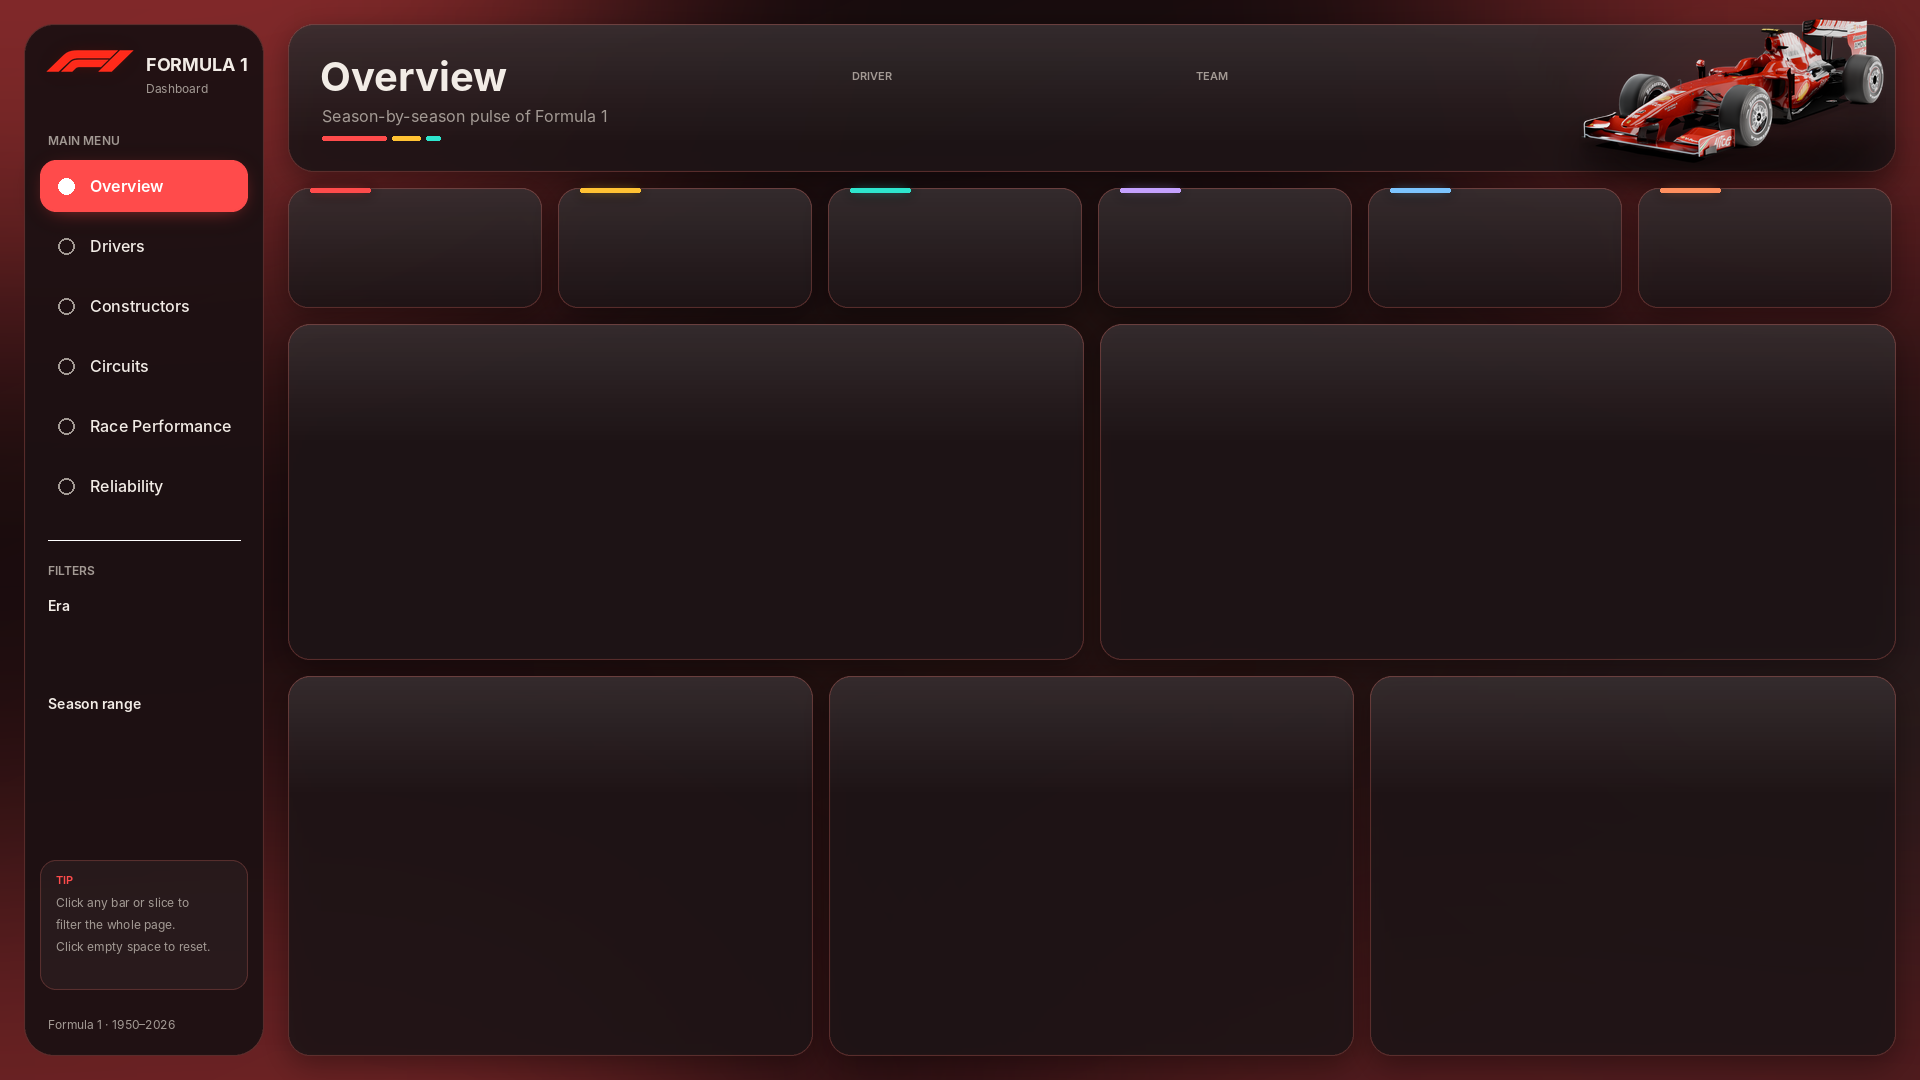

Layout of this report page (visuals, bound fields, positions):
{"tool":"powerbi","page":{"name":"Overview","canvas":[1920,1080],"ordinal":0},"visuals":[{"type":"actionButton","box":[40,160,208,52],"z":1000},{"type":"actionButton","box":[40,220,208,52],"z":2000},{"type":"actionButton","box":[40,280,208,52],"z":3000},{"type":"actionButton","box":[40,340,208,52],"z":4000},{"type":"actionButton","box":[40,400,208,52],"z":5000},{"type":"actionButton","box":[40,460,208,52],"z":6000},{"type":"slicer","fields":{"Values":["dim_race.era"]},"box":[40,622,208,44],"z":7000},{"type":"slicer","fields":{"Values":["dim_race.year"]},"box":[40,724,208,96],"z":8000},{"type":"slicer","fields":{"Values":["dim_driver.driver_name"]},"box":[848,90,328,40],"z":9000},{"type":"slicer","fields":{"Values":["dim_constructor.constructor_name"]},"box":[1192,90,328,40],"z":10000},{"type":"card","fields":{"Values":["_Measures.Races"]},"box":[300,202,230,96],"z":11000},{"type":"card","fields":{"Values":["_Measures.Starts"]},"box":[570,202,230,96],"z":12000},{"type":"card","fields":{"Values":["_Measures.Finish Rate"]},"box":[840,202,230,96],"z":13000},{"type":"card","fields":{"Values":["_Measures.Retirement Rate"]},"box":[1110,202,230,96],"z":14000},{"type":"card","fields":{"Values":["_Measures.Fastest Laps"]},"box":[1380,202,230,96],"z":15000},{"type":"card","fields":{"Values":["_Measures.Avg Pit Stop (s)"]},"box":[1650,202,230,96],"z":16000},{"type":"areaChart","title":"Finish rate vs retirement rate by season","fields":{"Category":["dim_race.year"],"Y":["_Measures.Finish Rate","_Measures.Retirement Rate"]},"box":[300,336,772,312],"z":17000},{"type":"clusteredColumnChart","title":"Races per season","fields":{"Category":["dim_race.year"],"Y":["_Measures.Races"]},"box":[1112,336,772,312],"z":18000},{"type":"clusteredBarChart","title":"Top 10 drivers by wins","fields":{"Category":["dim_driver.driver_name"],"Y":["_Measures.Wins"]},"box":[300,688,501,356],"z":19000},{"type":"clusteredBarChart","title":"Top 10 constructors by wins","fields":{"Category":["dim_constructor.constructor_name"],"Y":["_Measures.Wins"]},"box":[841,688,501,356],"z":20000},{"type":"donutChart","title":"What ends a race early","fields":{"Category":["dim_status.status_group"],"Y":["_Measures.Retirements"]},"box":[1382,688,502,356],"z":21000}]}

Visuals, with their boxes in screenshot pixels (x1, y1, x2, y2), scaled from the page's 1920x1080 canvas onto the 1920x1080 screenshot:
actionButton: select_region(40, 160, 248, 212)
actionButton: select_region(40, 220, 248, 272)
actionButton: select_region(40, 280, 248, 332)
actionButton: select_region(40, 340, 248, 392)
actionButton: select_region(40, 400, 248, 452)
actionButton: select_region(40, 460, 248, 512)
slicer - dim_race.era: select_region(40, 622, 248, 666)
slicer - dim_race.year: select_region(40, 724, 248, 820)
slicer - dim_driver.driver_name: select_region(848, 90, 1176, 130)
slicer - dim_constructor.constructor_name: select_region(1192, 90, 1520, 130)
card - _Measures.Races: select_region(300, 202, 530, 298)
card - _Measures.Starts: select_region(570, 202, 800, 298)
card - _Measures.Finish Rate: select_region(840, 202, 1070, 298)
card - _Measures.Retirement Rate: select_region(1110, 202, 1340, 298)
card - _Measures.Fastest Laps: select_region(1380, 202, 1610, 298)
card - _Measures.Avg Pit Stop (s): select_region(1650, 202, 1880, 298)
"Finish rate vs retirement rate by season" areaChart: select_region(300, 336, 1072, 648)
"Races per season" clusteredColumnChart: select_region(1112, 336, 1884, 648)
"Top 10 drivers by wins" clusteredBarChart: select_region(300, 688, 801, 1044)
"Top 10 constructors by wins" clusteredBarChart: select_region(841, 688, 1342, 1044)
"What ends a race early" donutChart: select_region(1382, 688, 1884, 1044)
